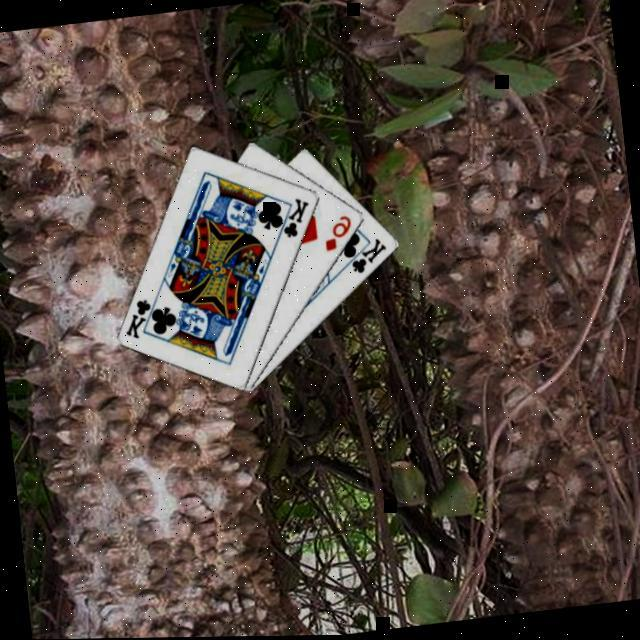6D: (318, 214, 356, 256)
KC: (337, 236, 391, 280), (270, 195, 314, 244), (119, 297, 163, 345)
